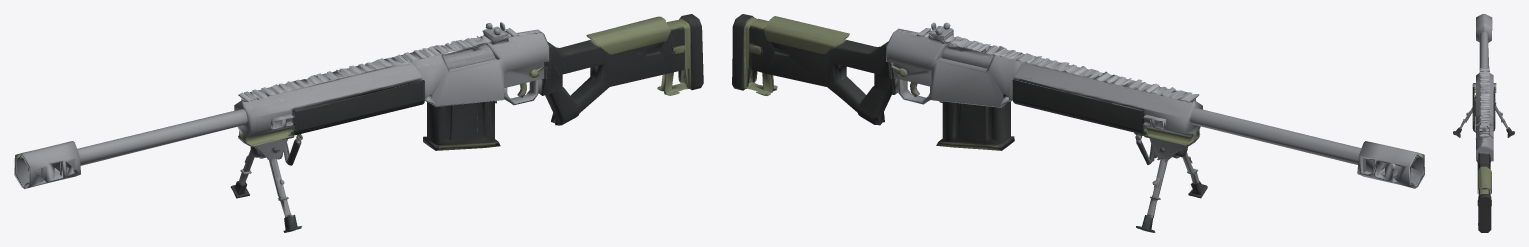
Rendered from sr_harbinger.glb.
The picture shows the model from 3 angles, left to right: view 1: azimuth 30°, elevation 25°; view 2: azimuth 150°, elevation 25°; view 3: azimuth 270°, elevation 25°; orthographic projection. The views are drawn at different scales.
Size of the model in its own units: 0.9536 by 0.1787 by 0.147.
1 material, 1 textured.
